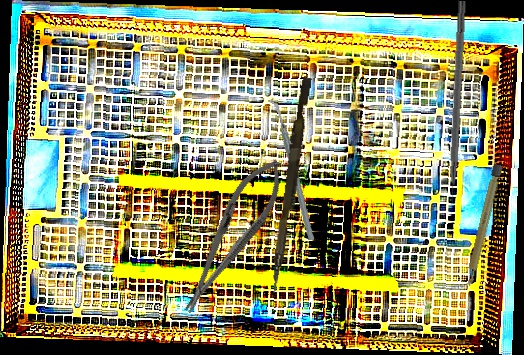Chopper: (247, 99, 335, 241)
Hook Surgical: (444, 0, 468, 217)
Needle Holder: (167, 149, 296, 323)
Pusher: (270, 76, 312, 295)
Scalpel Handle: (463, 163, 503, 287)
